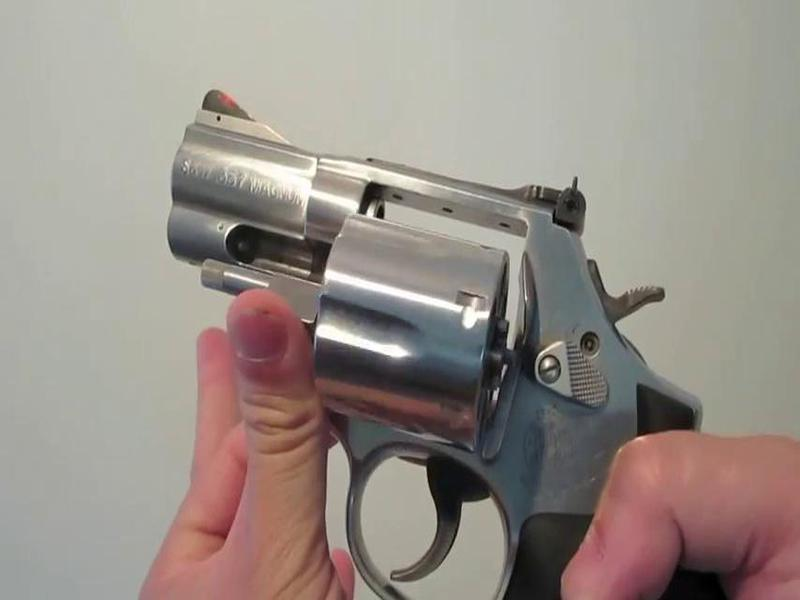Revolver: (139, 74, 728, 600)
